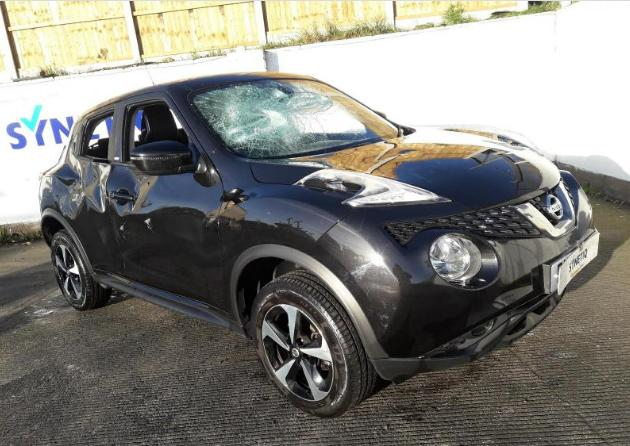Back-door: (61, 100, 121, 275)
Back-wheel: (50, 230, 112, 311)
Fender: (210, 145, 354, 315)
Front-bumper: (294, 170, 599, 380)
Front-door: (106, 89, 228, 311)
Front-wheel: (251, 268, 378, 419)
Grille: (384, 172, 576, 247)
Headlight: (294, 170, 444, 205), (430, 233, 482, 285)
Hood: (249, 125, 559, 210)
License-plate: (558, 230, 600, 297)
Mirror: (130, 134, 218, 185)
Quarter-panel: (39, 149, 73, 229)
Rocker-panel: (88, 268, 245, 337)
Roof: (82, 72, 314, 117)
Windshield: (189, 79, 404, 159)
